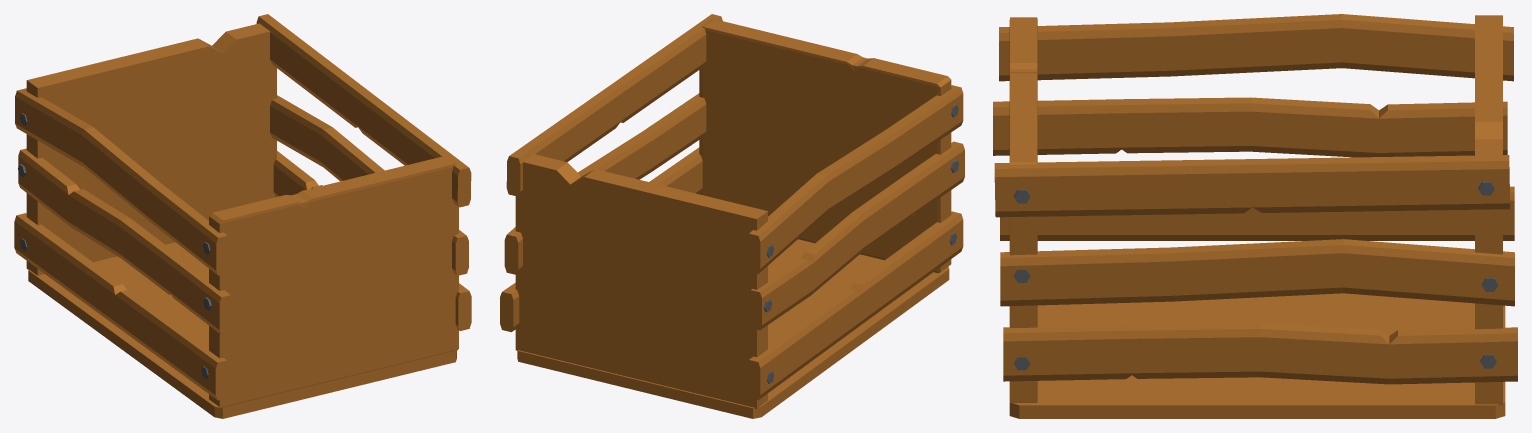
Rendered from HandCrate.fbx.
3 views of the same model, side by side, from view 1: azimuth 30°, elevation 25°; view 2: azimuth 150°, elevation 25°; view 3: azimuth 270°, elevation 25° (orthographic). The views are drawn at different scales.
Parts seen in each view (by area): view 1: Cube.005; view 2: Cube.005; view 3: Cube.005.
Part boxes in pixels (x1,y1,x2,y2): Cube.005: [14, 14, 471, 418]; Cube.005: [500, 14, 964, 418]; Cube.005: [993, 14, 1517, 418].
Size of the model in its own units: 266 by 199 by 365.
